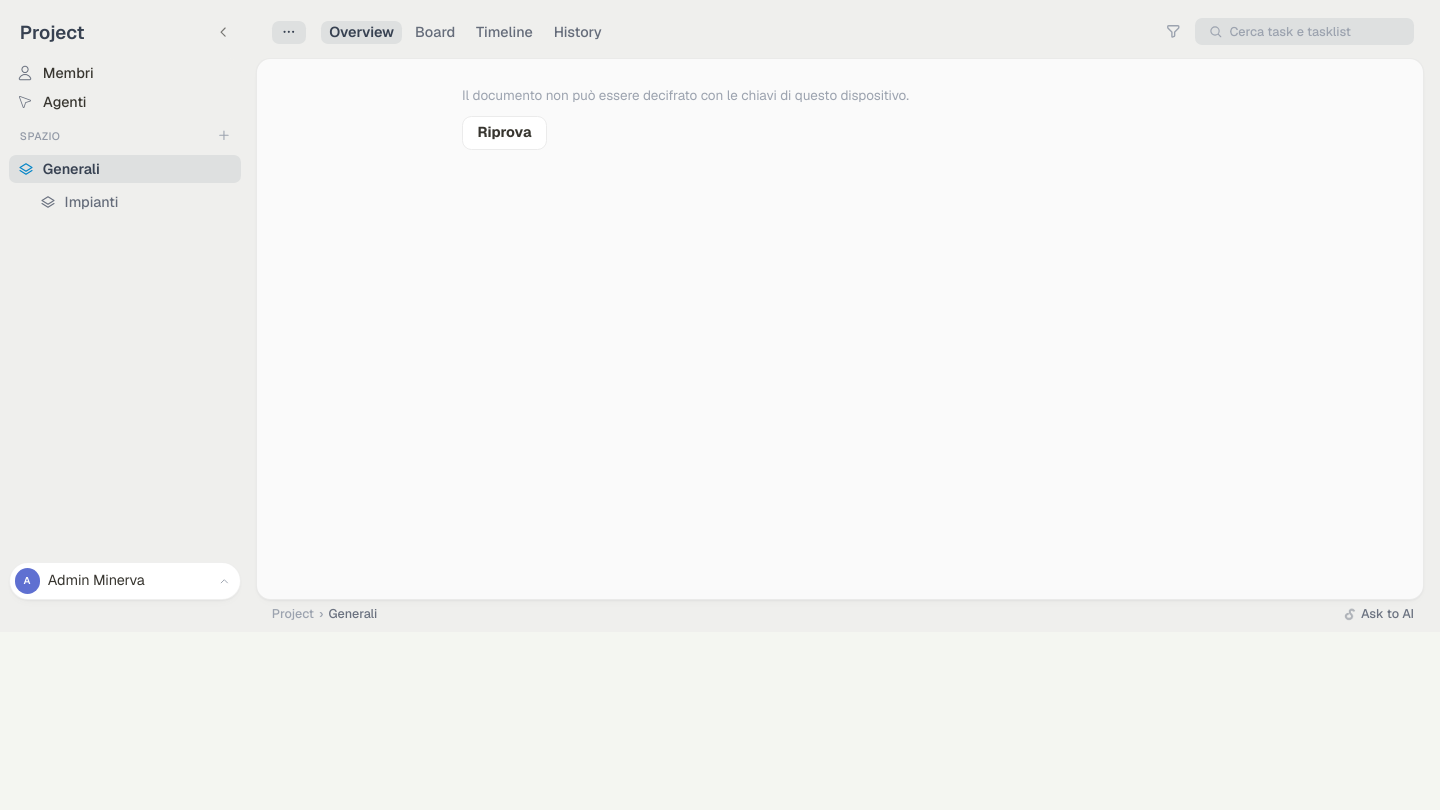
board shell › retries loading Generali after a project document decryption error
Expected: the message reads "Il documento non può essere decifrato con le chiavi di questo dispositivo.", [462,86,909,104]
What coordinates should you click on to do the following:
click the button "Riprova"
I would click on:
 (504, 133)
Its box is [462,116,547,150].
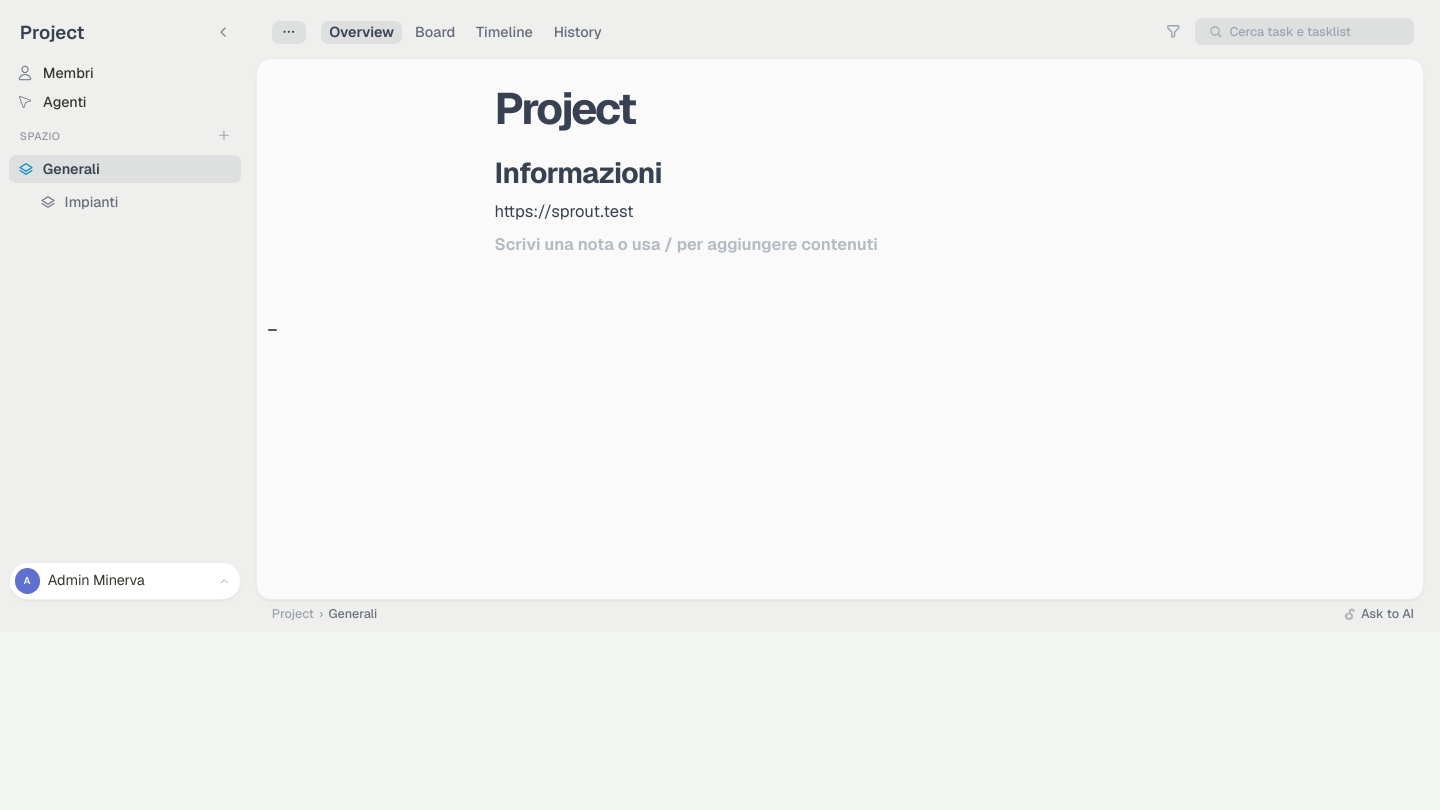
Now the field named "Testo info in Markdown" is shown, box [494,154,662,222]
